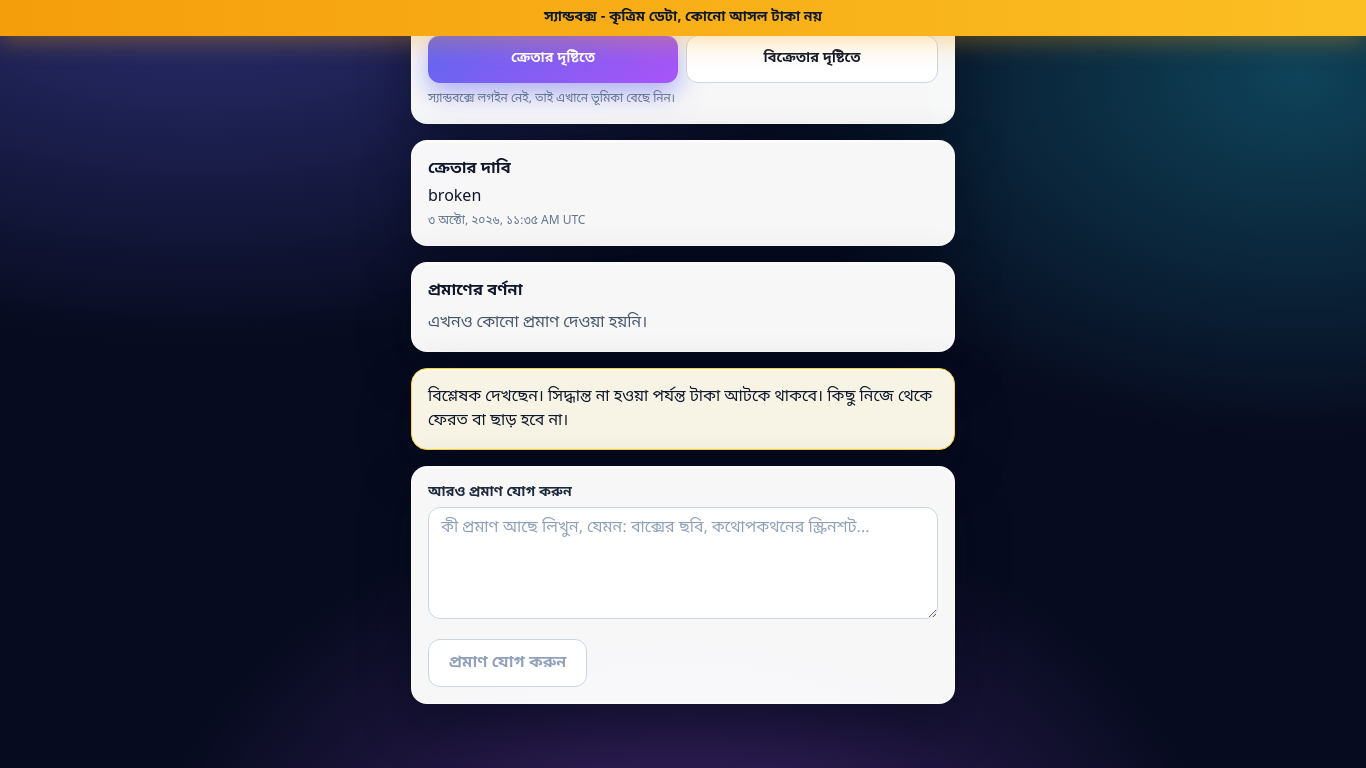
Test case: buyer dispute form › lets the buyer add more evidence
(page scrolled)
In the text box labelled "আরও প্রমাণ যোগ করুন": (683, 563) [428,507,938,619], type "স্ক্র্যাচের ছবি আছে"
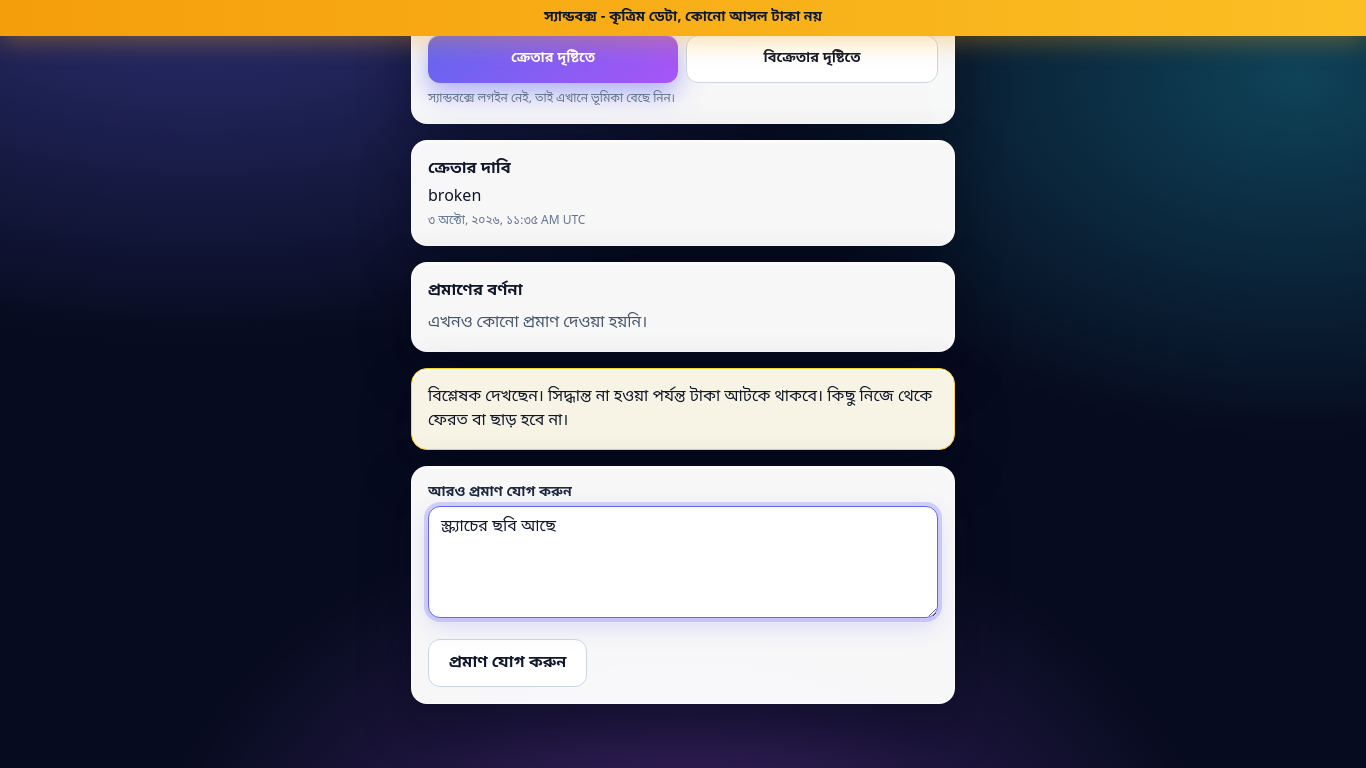
Click the button "প্রমাণ যোগ করুন": (508, 663) [428,639,587,687]
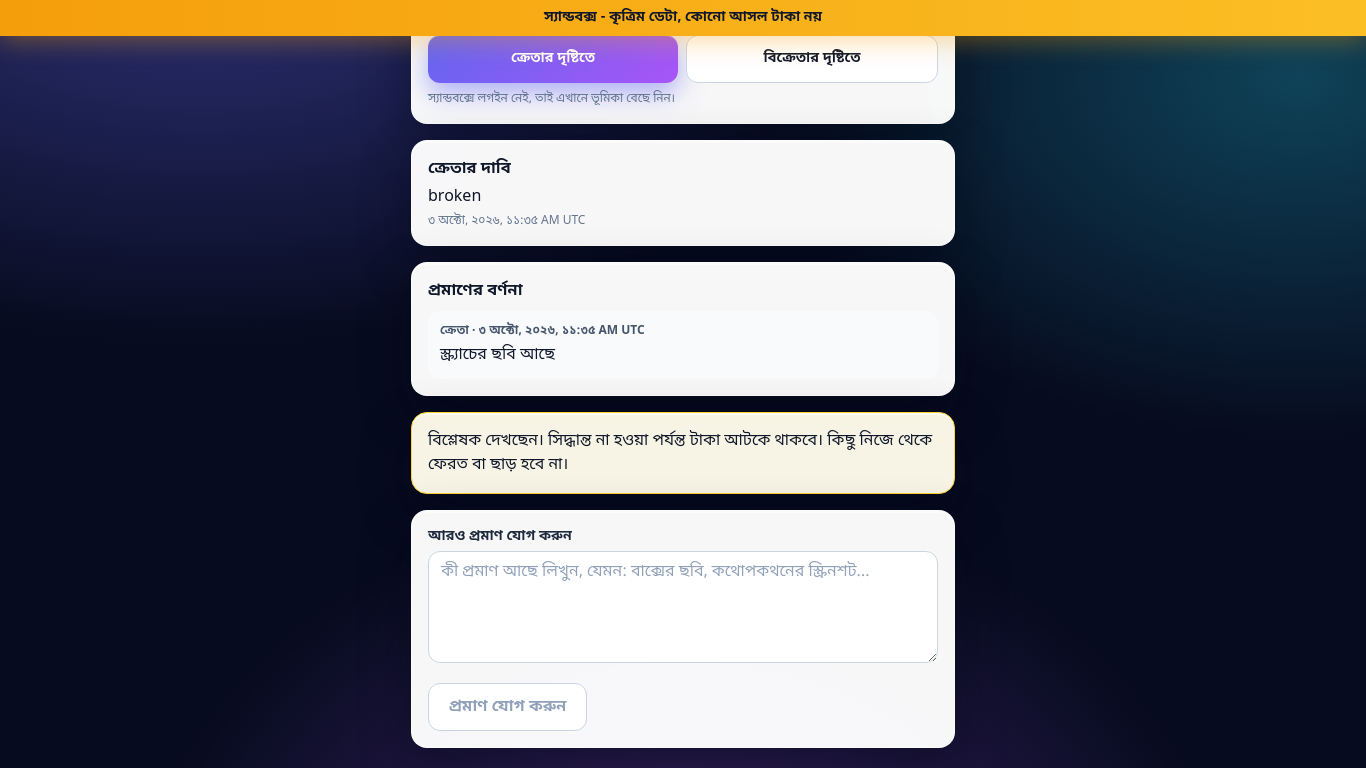
Result: the text "স্ক্র্যাচের ছবি আছে" is shown at [440,344,555,366]
